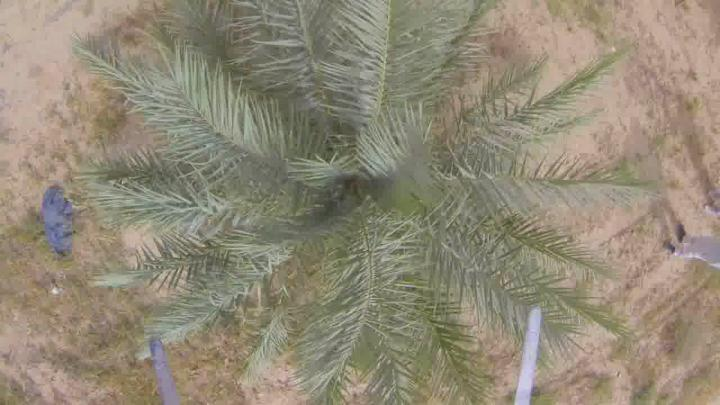Date-Palm-Crown: (186, 38, 500, 338)
